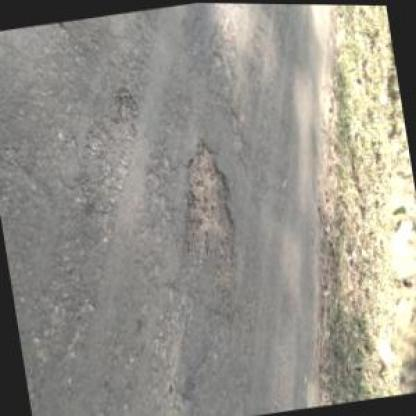pothole: (168, 133, 250, 312), (104, 83, 143, 137)
